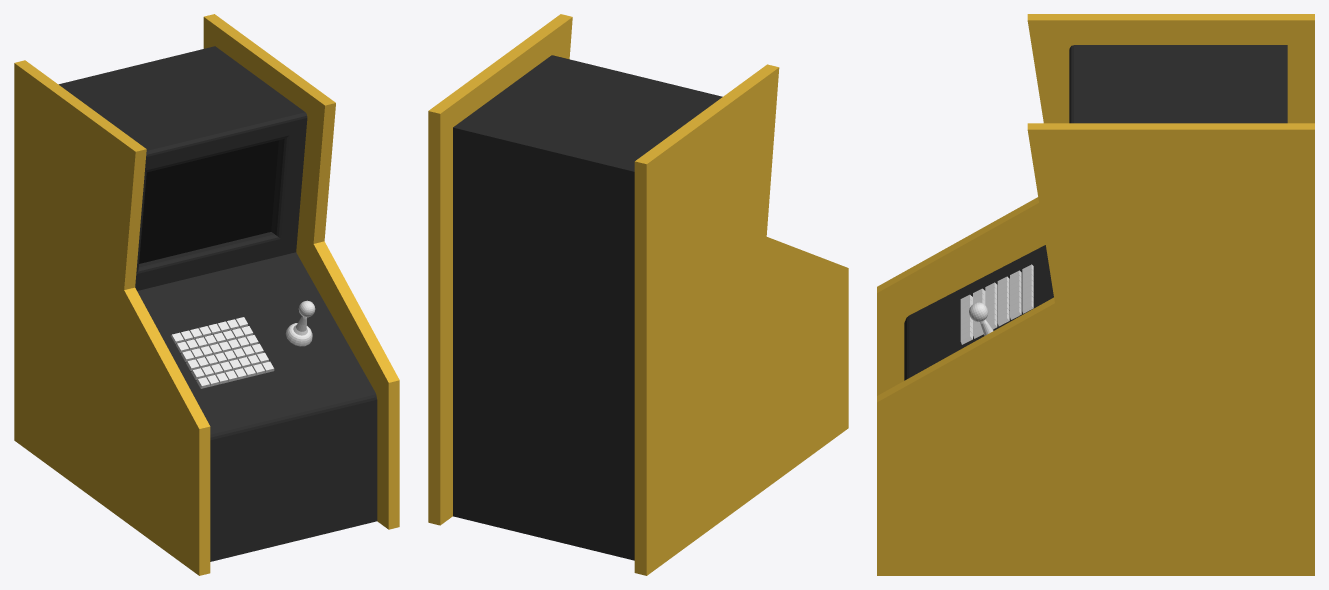
Rendered from ArcadeMachine 1.fbx.
The picture shows the model from 3 angles, left to right: view 1: azimuth 30°, elevation 25°; view 2: azimuth 150°, elevation 25°; view 3: azimuth 270°, elevation 25°; orthographic projection. The views are drawn at different scales.
Parts seen in each view (by area): view 1: ArcadeMachine, KeyBoard, Joystick; view 2: ArcadeMachine; view 3: ArcadeMachine, KeyBoard.
Boxes of the visible parts, x1=… form: ArcadeMachine: x1=14, y1=14, x2=399, y2=575; KeyBoard: x1=171, y1=317, x2=274, y2=388; Joystick: x1=285, y1=300, x2=315, y2=346; ArcadeMachine: x1=428, y1=14, x2=848, y2=575; ArcadeMachine: x1=877, y1=14, x2=1314, y2=575; KeyBoard: x1=960, y1=264, x2=1033, y2=344.
Bounding box in the file's own units: 100 × 180 × 160.
